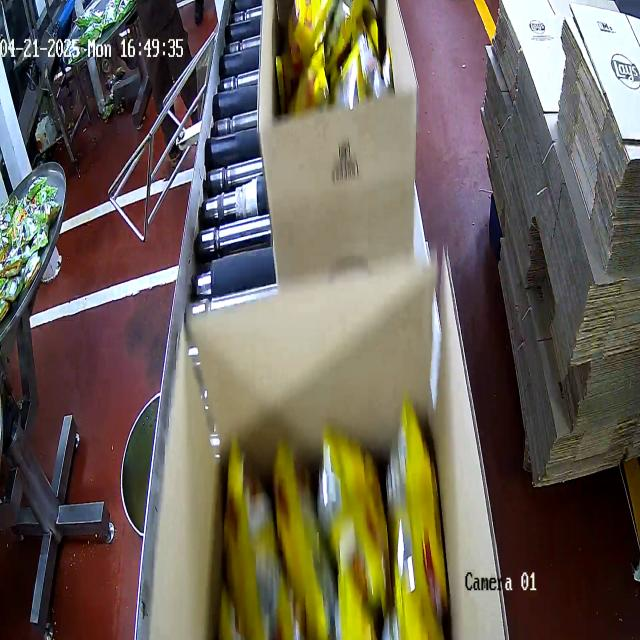SALTED: (218, 420, 452, 640), (279, 0, 396, 107)
